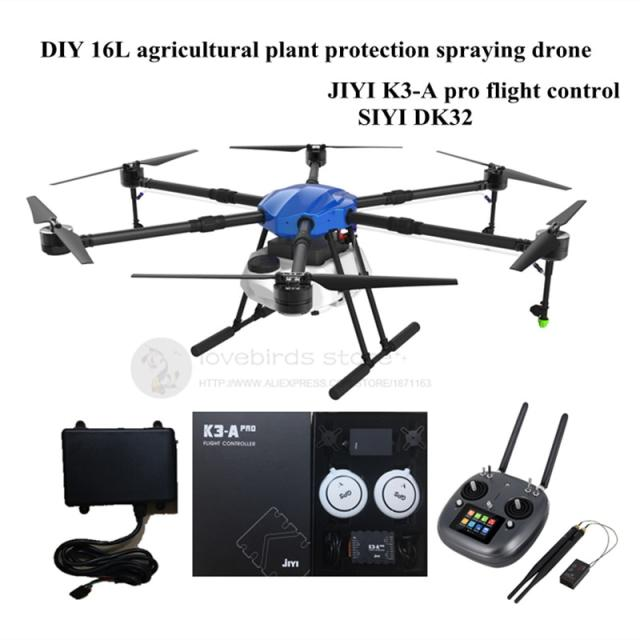drone: (21, 124, 632, 359)
